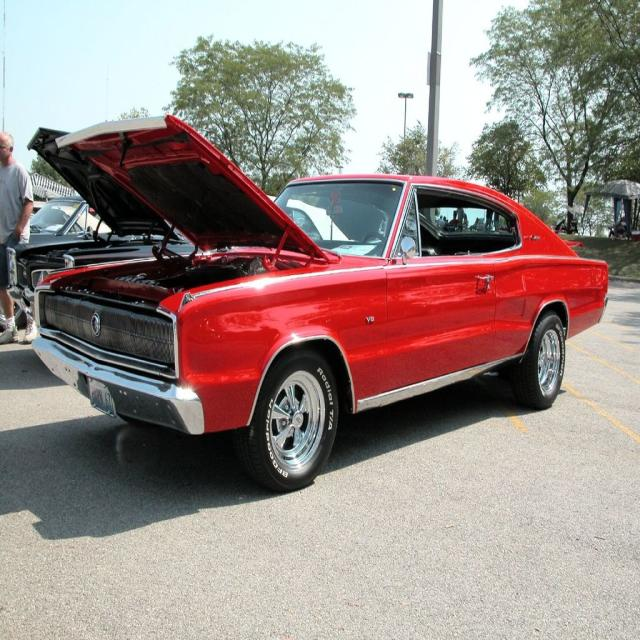car: (28, 152, 600, 495), (5, 188, 207, 314)
